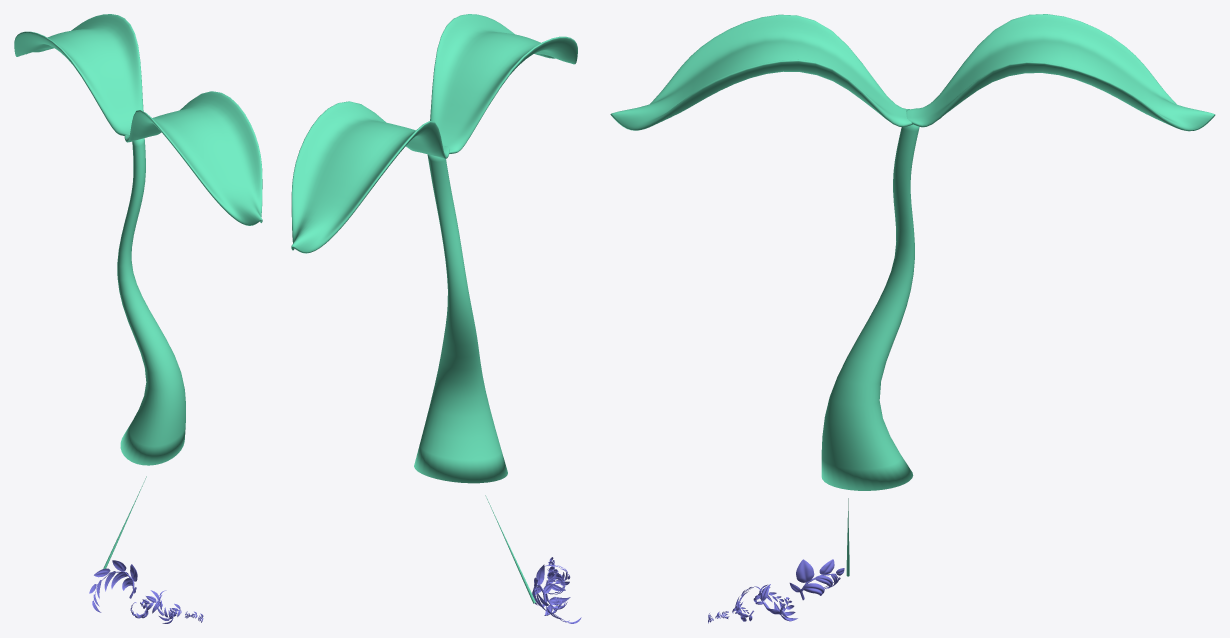
Rendered from Beanstalk#02_Fixed.fbx.
3 views of the same model, side by side, from view 1: azimuth 30°, elevation 25°; view 2: azimuth 150°, elevation 25°; view 3: azimuth 270°, elevation 25° (orthographic). The views are drawn at different scales.
Visible parts, largest first — view 1: Vert.005, LEAFE; view 2: Vert.005, LEAFE; view 3: Vert.005, LEAFE.
Boxes of the visible parts, x1,y1,x2,y2 form: Vert.005: (14,14,262,465); LEAFE: (89,560,137,612); Vert.005: (291,14,577,483); LEAFE: (532,564,581,623); Vert.005: (610,14,1215,490); LEAFE: (789,559,844,600).
Size of the model in its own units: 73.67 by 282 by 253.
